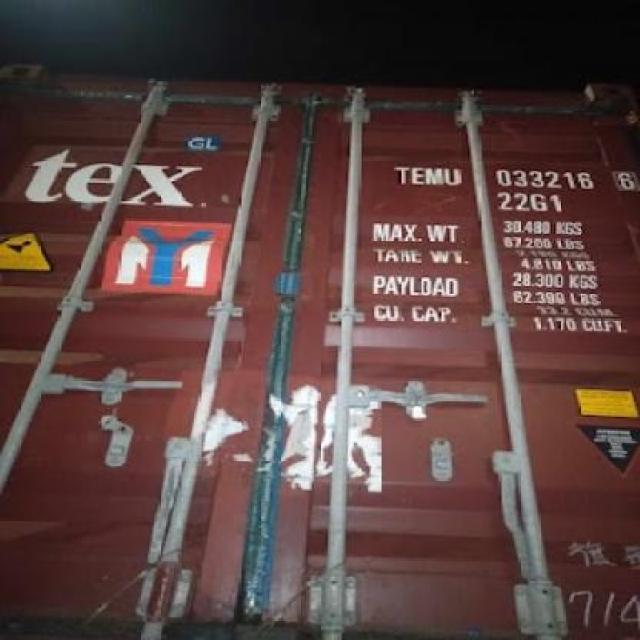ISO: (502, 190, 564, 215)
container_number: (393, 163, 629, 192)
